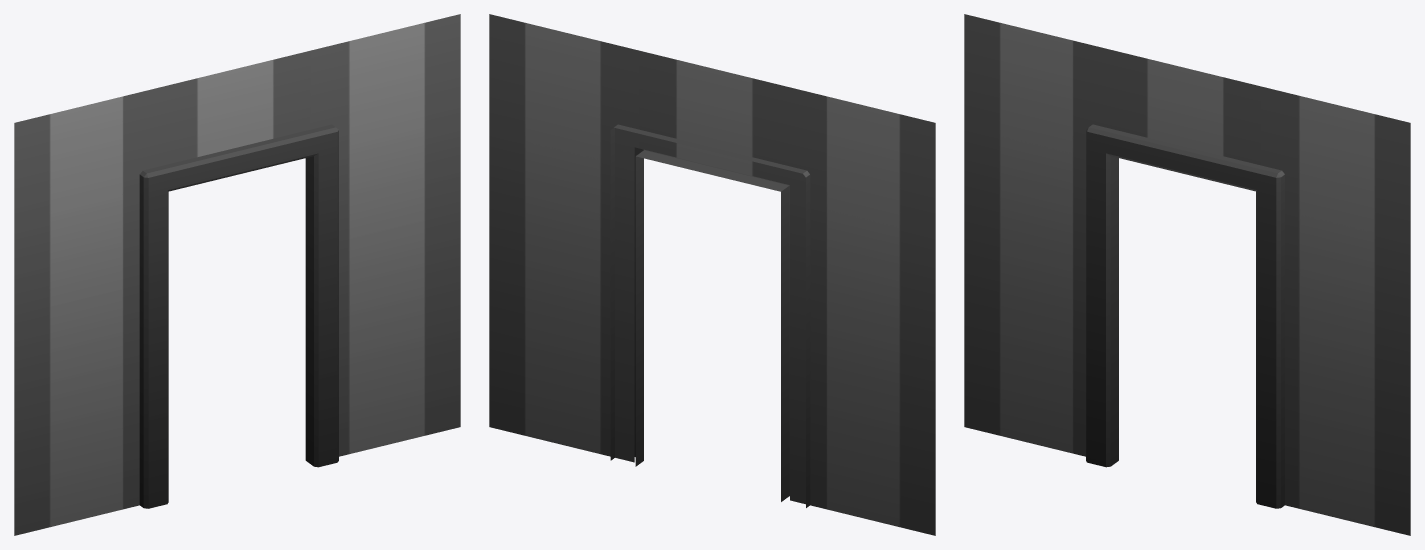
Rendered from Wall_01_Door.fbx.
3 views of the same model, side by side, from view 1: azimuth 30°, elevation 25°; view 2: azimuth 150°, elevation 25°; view 3: azimuth 330°, elevation 25° (orthographic).
Visible parts, largest first — view 1: Wall_01_Door; view 2: Wall_01_Door; view 3: Wall_01_Door.
Boxes of the visible parts, x1,y1,x2,y2 form: Wall_01_Door: [14, 14, 460, 535]; Wall_01_Door: [489, 14, 935, 535]; Wall_01_Door: [964, 14, 1410, 535].
Size of the model in its own units: 3 by 2.65 by 0.1165.
